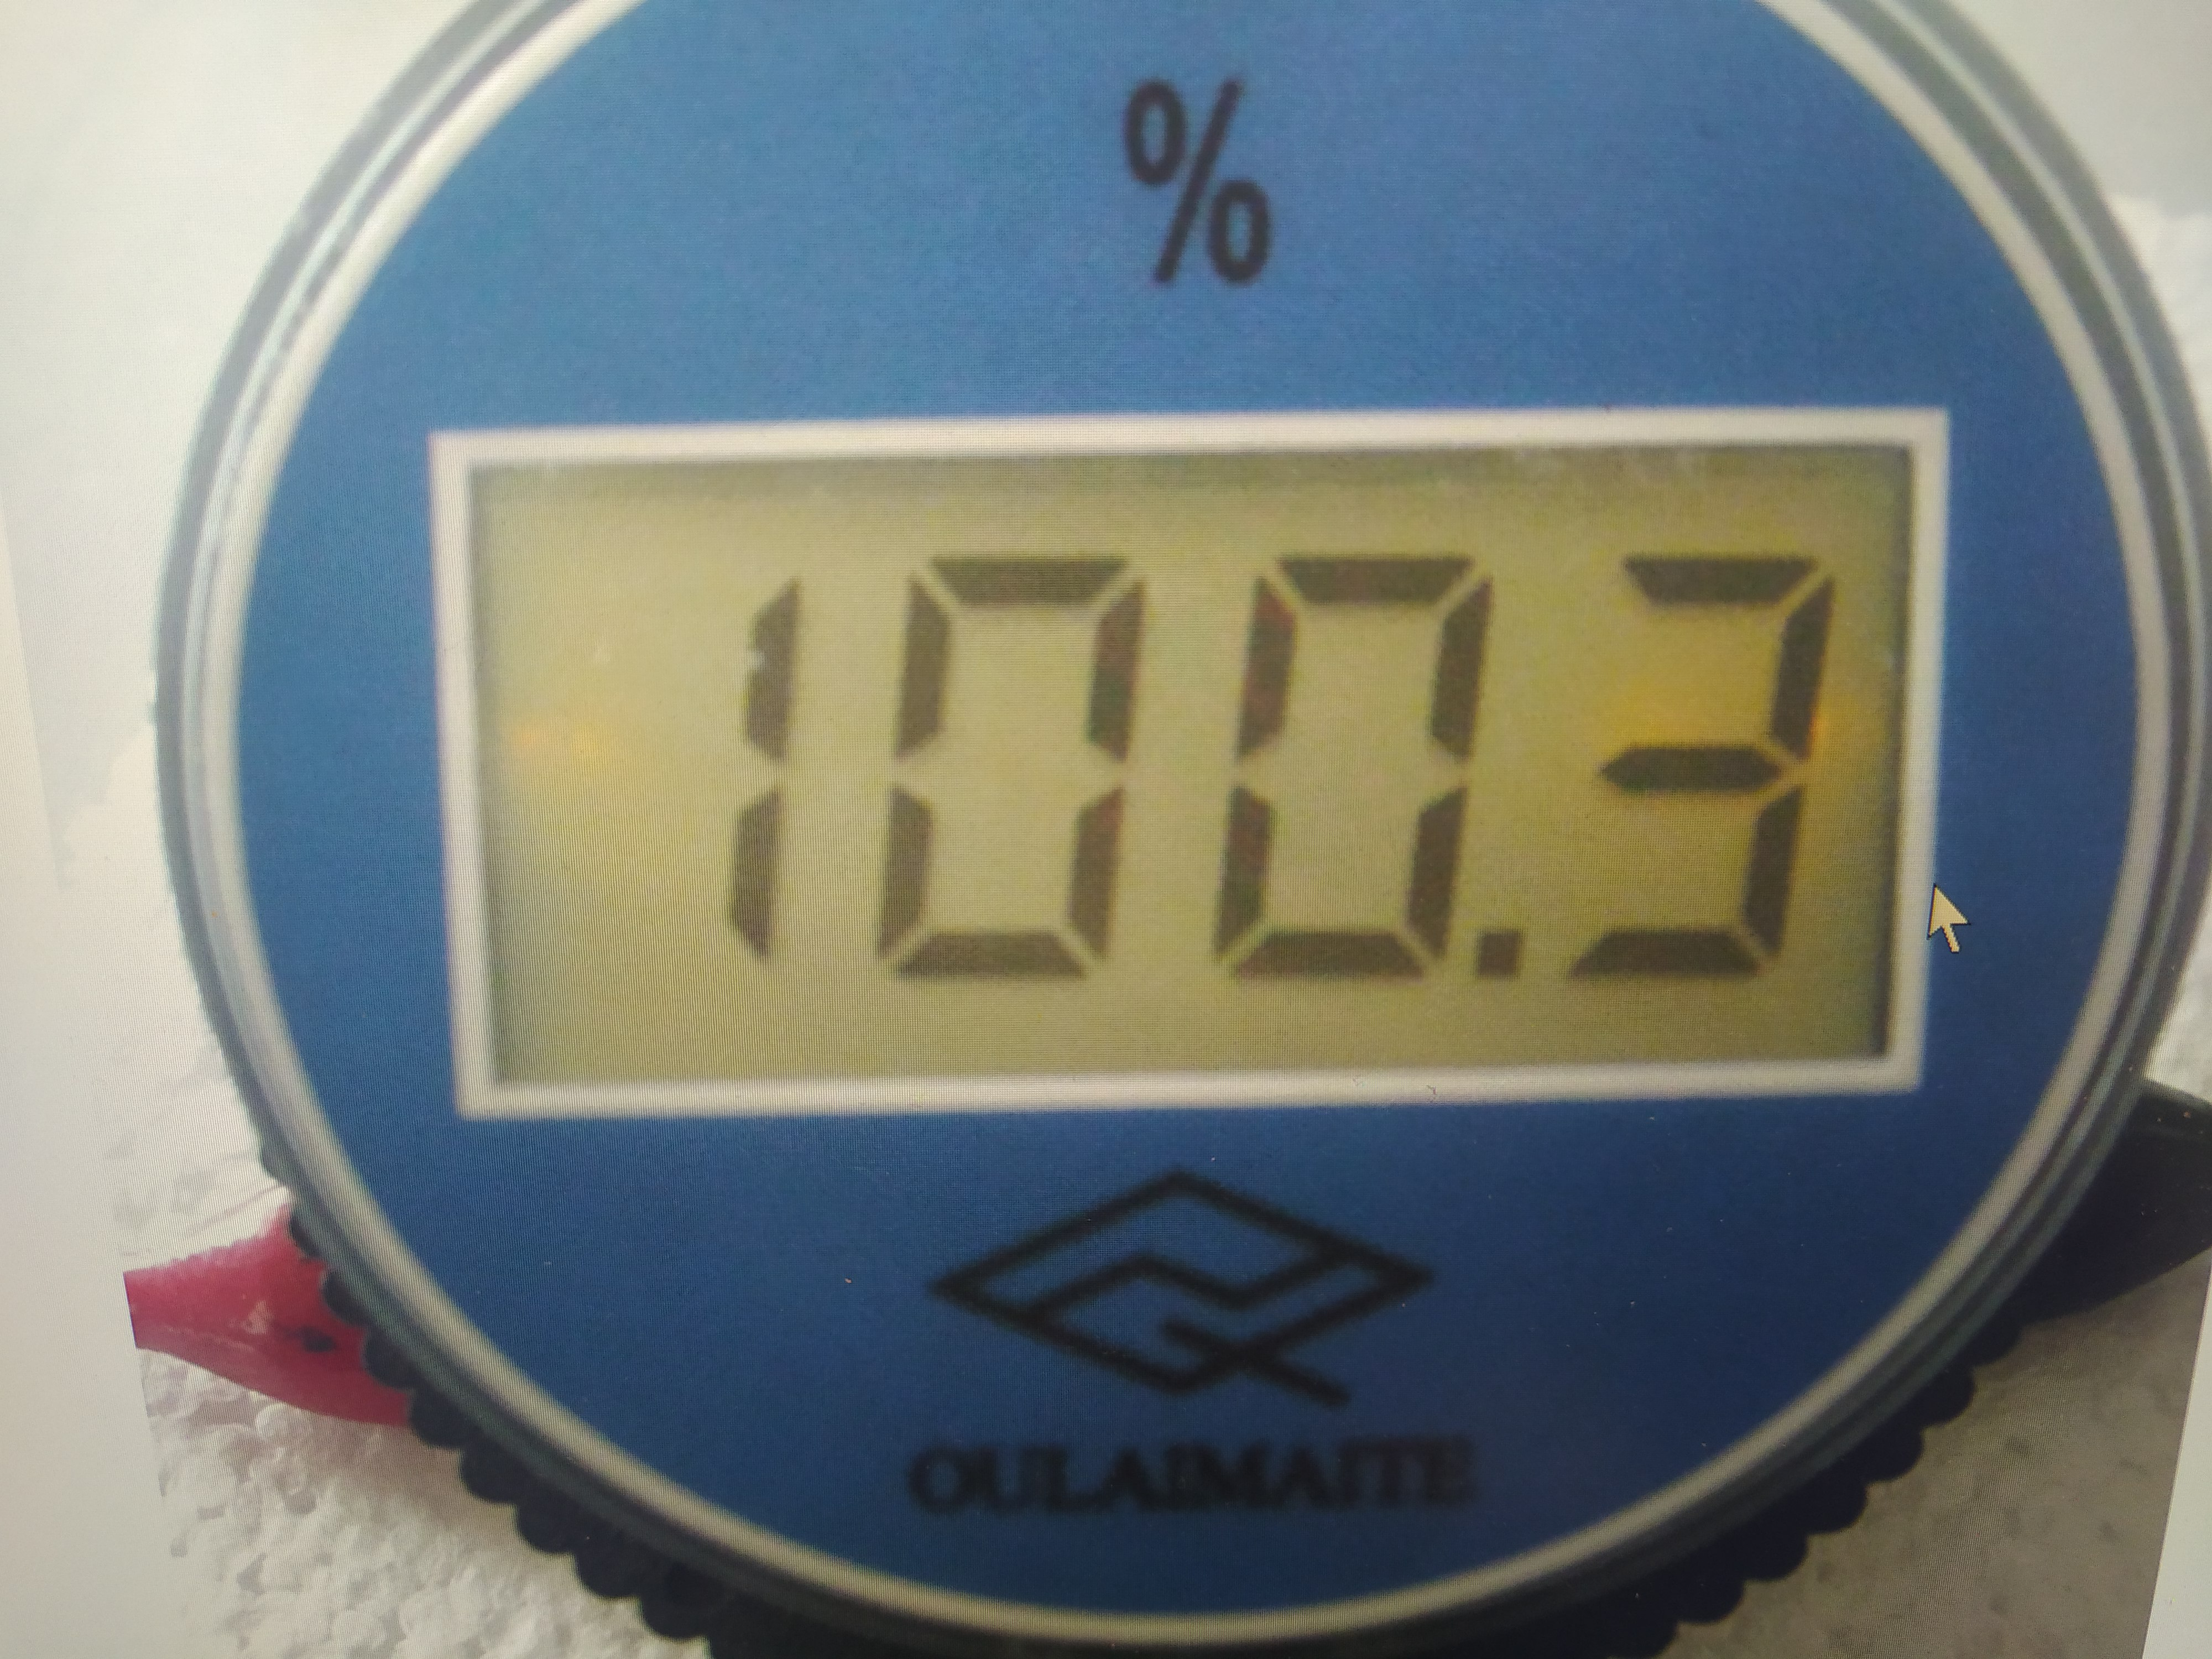.: (1479, 544, 1531, 990)
0: (1211, 547, 1493, 976), (887, 549, 1148, 978)
1: (712, 547, 829, 974)
3: (1564, 544, 1841, 978)
